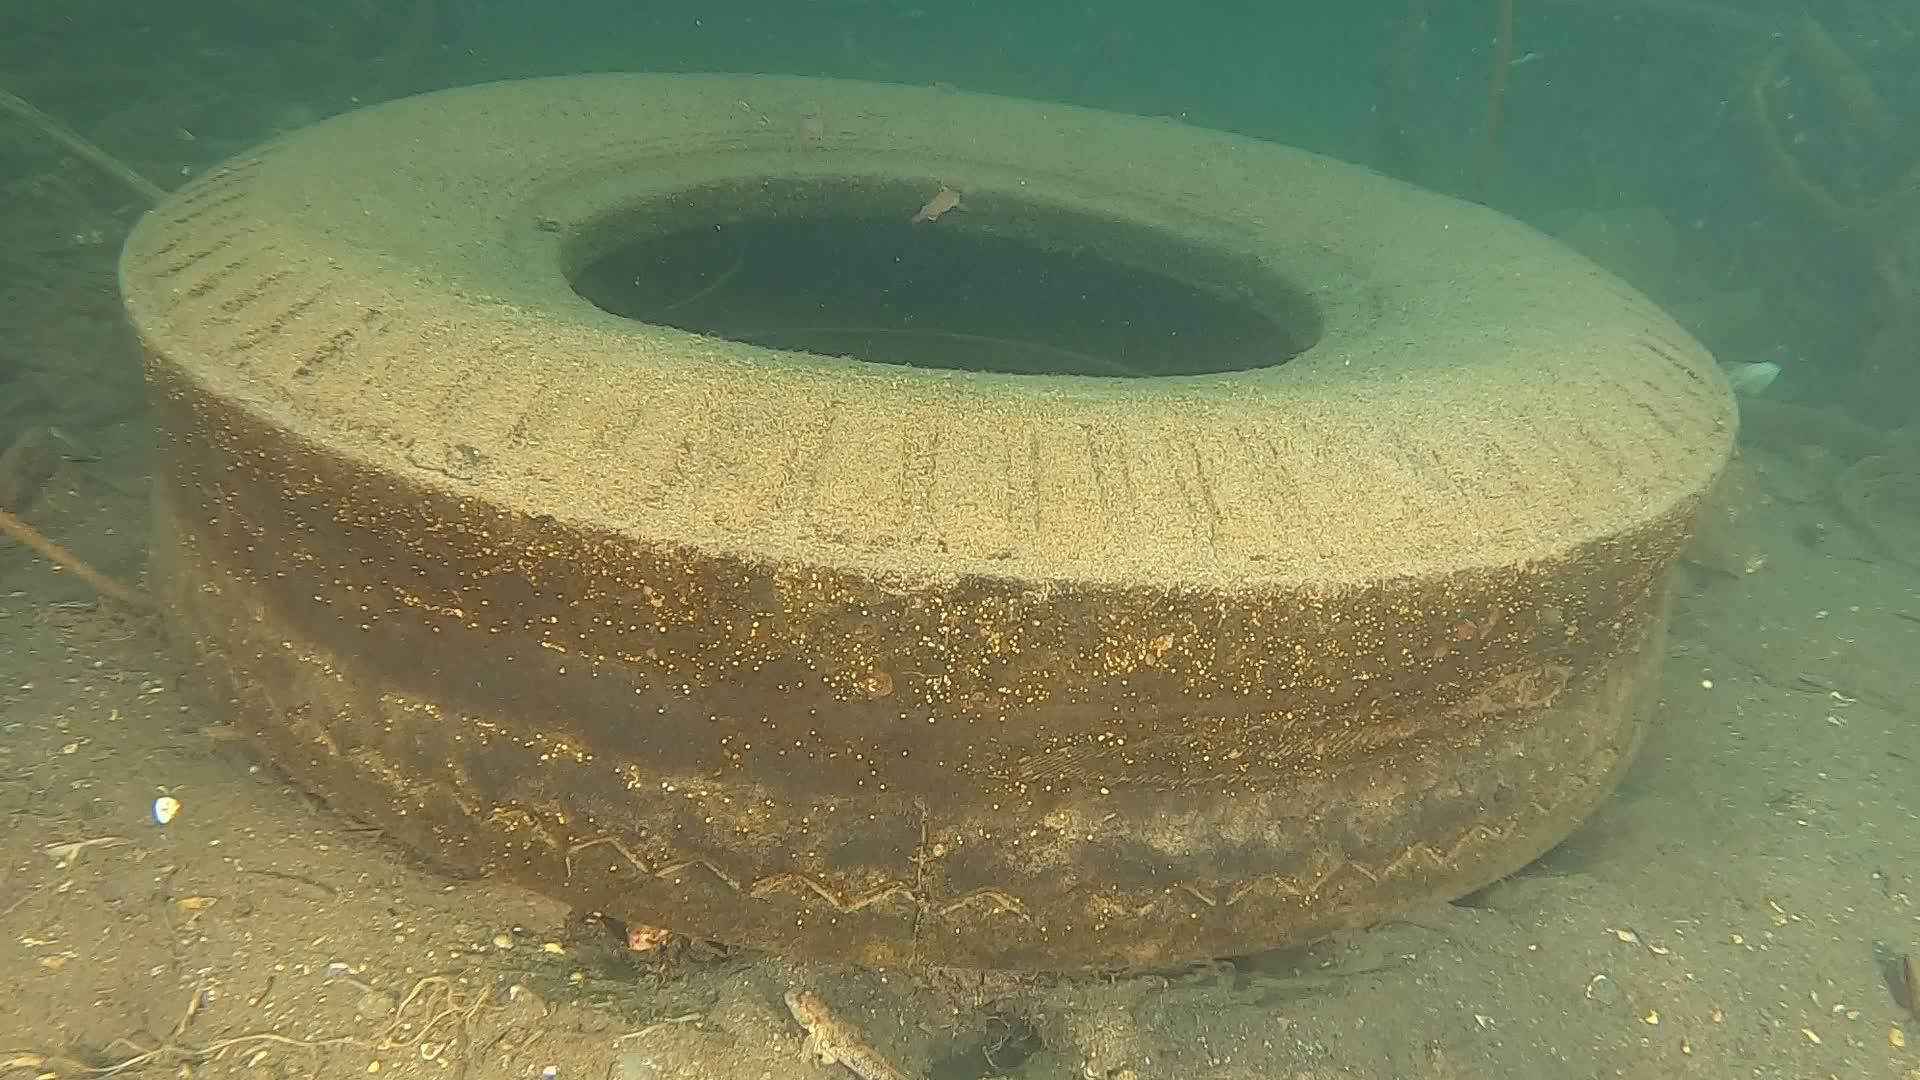tire: (109, 66, 1749, 985)
